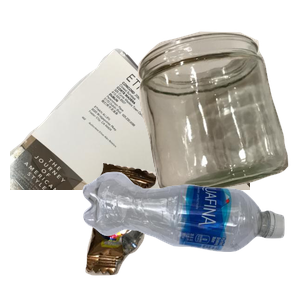glass: (135, 29, 300, 209)
paper: (10, 46, 250, 226)
plastic: (80, 169, 300, 300)
trash: (83, 160, 233, 300)
